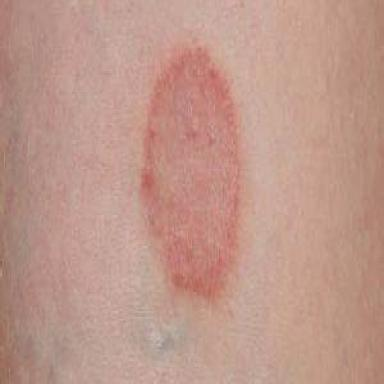Tinea-Corporis: (143, 47, 236, 295)
